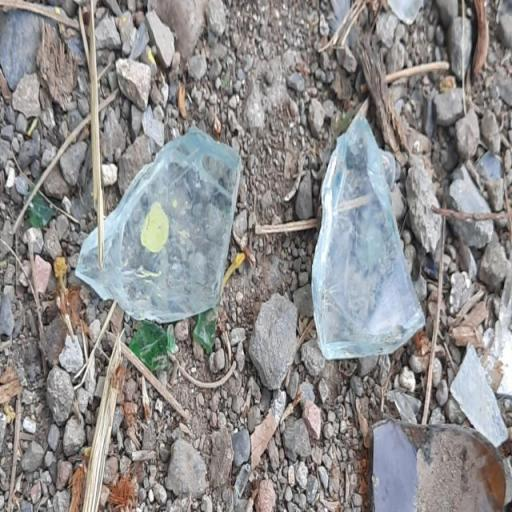glass: (66, 106, 244, 340), (305, 74, 432, 376)
